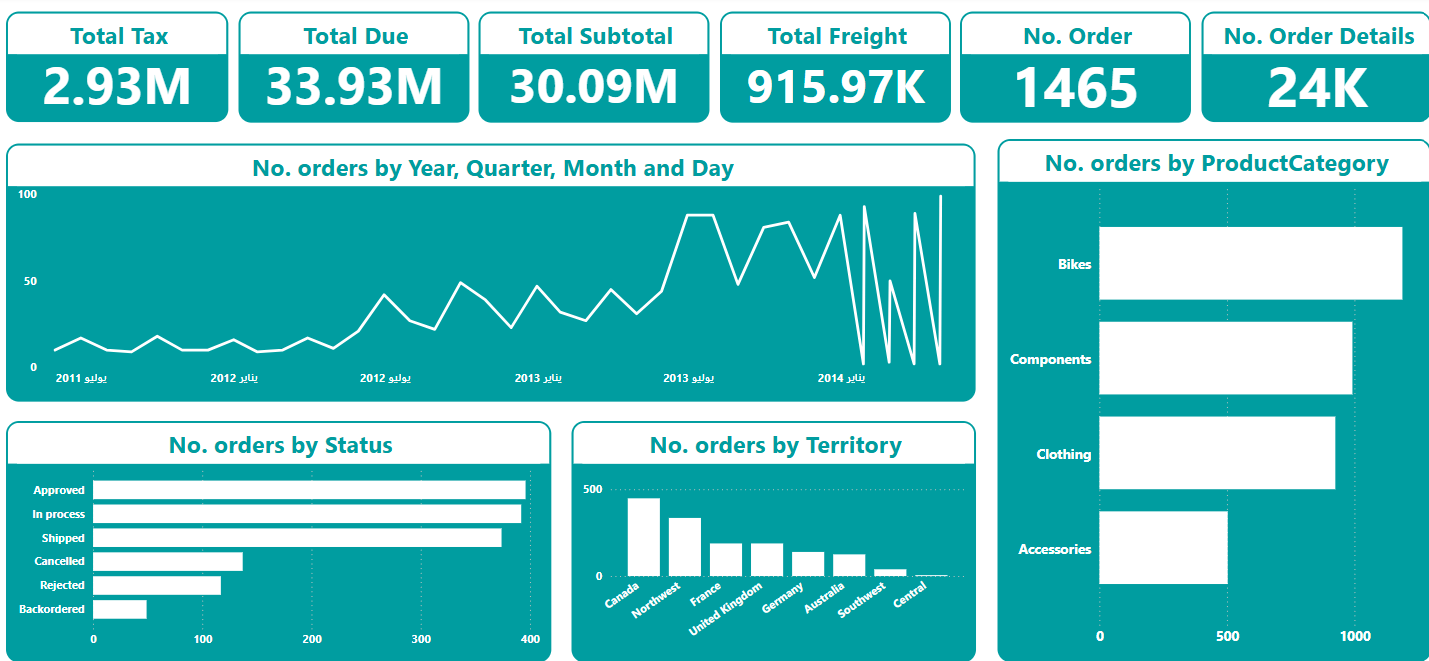

The page's visual inventory and layout, read from the dashboard file:
{"tool":"powerbi","page":{"name":"Page 1","canvas":[1550,720],"ordinal":0},"visuals":[{"type":"card","title":"Total Tax","fields":{"Values":["My Measures.Total Tax"]},"box":[9.2,18.3,240.2,119.2],"z":0},{"type":"card","title":"Total Subtotal","fields":{"Values":["My Measures.Total Subtotal"]},"box":[520,17.8,249.4,119.8],"z":1000},{"type":"card","title":"Total Freight","fields":{"Values":["My Measures.Total Freight"]},"box":[780,17.8,249.4,119.8],"z":2000},{"type":"card","title":"Total Due","fields":{"Values":["My Measures.Total Due"]},"box":[260,17.8,249.4,119.8],"z":3000},{"type":"card","title":"No. Order Details","fields":{"Values":["My Measures.NoOrderDetails"]},"box":[1300,18.3,249.4,119.2],"z":4000},{"type":"card","title":"No. Order","fields":{"Values":["My Measures.No. orders"]},"box":[1040,17.8,249.4,119.8],"z":5000},{"type":"lineChart","fields":{"Y":["My Measures.No. orders"],"Category":["DimDate.Date.Variation.Date Hierarchy.Year","DimDate.Date.Variation.Date Hierarchy.Quarter","DimDate.Date.Variation.Date Hierarchy.Month","DimDate.Date.Variation.Date Hierarchy.Day"]},"box":[9.2,159.5,1047,278.7],"z":6000},{"type":"barChart","fields":{"Y":["My Measures.No. orders"],"Category":["DimStatus.Status"]},"box":[9.2,460.2,588.6,260.4],"z":7000},{"type":"columnChart","fields":{"Y":["My Measures.No. orders"],"Category":["DimTerritory.Territory"]},"box":[619.8,460.2,436.4,260.4],"z":8000},{"type":"barChart","fields":{"Category":["DimProduct.ProductCategory Hierarchy.ProductCategory","DimProduct.ProductCategory Hierarchy.ProductSubCategory","DimProduct.ProductCategory Hierarchy.Product"],"Y":["My Measures.No. orders"]},"box":[1080,155.9,469.4,564.8],"z":9000}]}

Visuals, with their boxes in screenshot pixels (x1, y1, x2, y2), scaled from the page's 1550x720 canvas onto the 1429x661 screenshot:
"Total Tax" card: {"x1": 8, "y1": 17, "x2": 230, "y2": 126}
"Total Subtotal" card: {"x1": 479, "y1": 16, "x2": 709, "y2": 126}
"Total Freight" card: {"x1": 719, "y1": 16, "x2": 949, "y2": 126}
"Total Due" card: {"x1": 240, "y1": 16, "x2": 470, "y2": 126}
"No. Order Details" card: {"x1": 1199, "y1": 17, "x2": 1428, "y2": 126}
"No. Order" card: {"x1": 959, "y1": 16, "x2": 1189, "y2": 126}
lineChart - My Measures.No. orders x DimDate.Date.Variation.Date Hierarchy.Year: {"x1": 8, "y1": 146, "x2": 974, "y2": 402}
barChart - My Measures.No. orders x DimStatus.Status: {"x1": 8, "y1": 422, "x2": 551, "y2": 660}
columnChart - My Measures.No. orders x DimTerritory.Territory: {"x1": 571, "y1": 422, "x2": 974, "y2": 660}
barChart - DimProduct.ProductCategory Hierarchy.ProductCategory x DimProduct.ProductCategory Hierarchy.ProductSubCategory: {"x1": 996, "y1": 143, "x2": 1428, "y2": 660}
